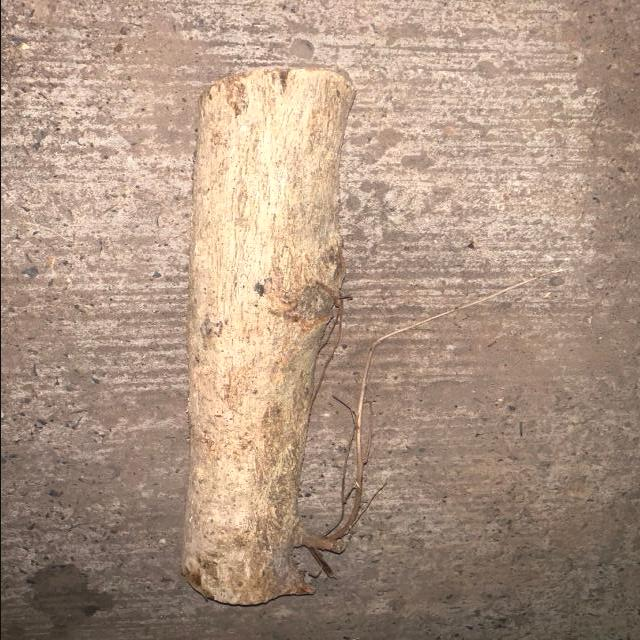General: (179, 62, 360, 609)
Sharps: (294, 266, 567, 580)
